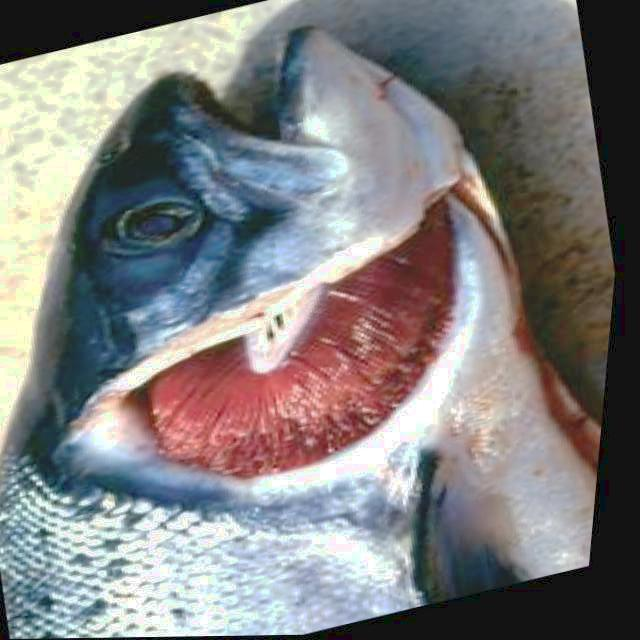Flavobacterium -Bacterial Gill Disease-: (0, 29, 598, 636), (0, 29, 593, 636)
